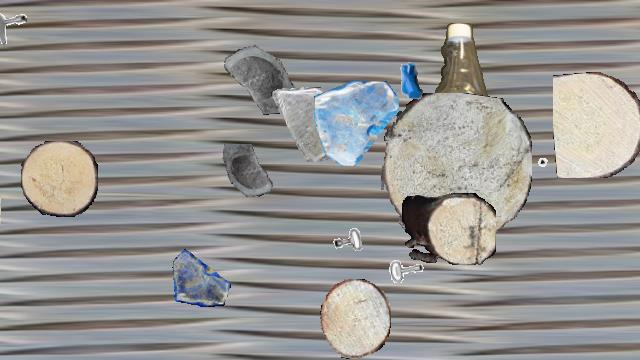glass: (314, 81, 398, 165), (214, 32, 296, 114), (270, 87, 344, 161), (219, 144, 281, 206), (172, 248, 230, 306)
metal: (319, 195, 379, 255), (382, 51, 438, 107), (386, 255, 432, 301), (534, 156, 574, 196), (0, 2, 27, 44)
plastic: (414, 23, 496, 221)
wood: (381, 93, 531, 245), (553, 72, 640, 178), (402, 193, 496, 265), (21, 141, 97, 217), (320, 279, 390, 359), (0, 189, 1, 253)
